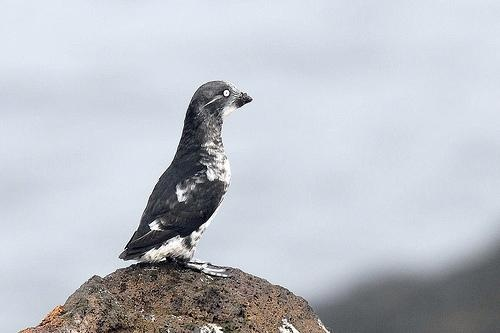bird: (118, 82, 254, 275)
